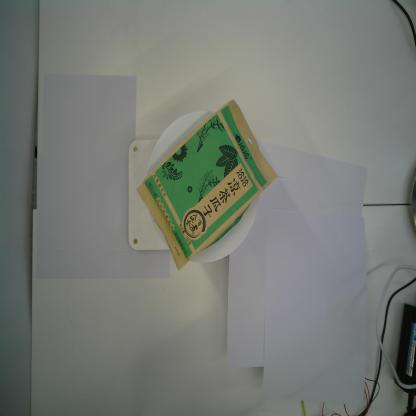Dried Food: (134, 96, 280, 272)
